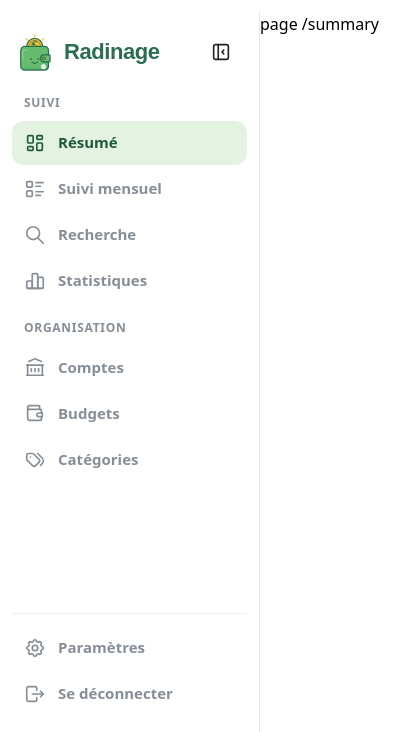
Test: RootLayout › collapses the side menu to named icons and remembers it
Expected: the text "page /summary" is shown, [260, 13, 379, 35]
Click the button named "Réduire le menu" at x=221, y=52, box [199, 30, 243, 74]
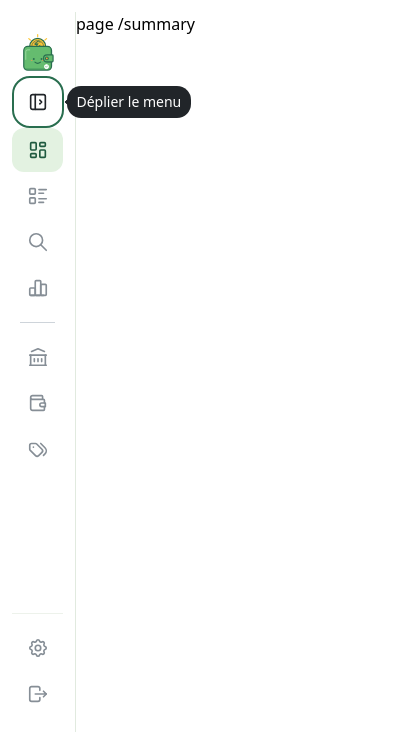
Expected: the button named "Déplier le menu" is shown, [16, 80, 60, 124]
Expected: the text "Suivi" is gone
Expected: the link named "Résumé" is empty, [12, 128, 63, 172]
